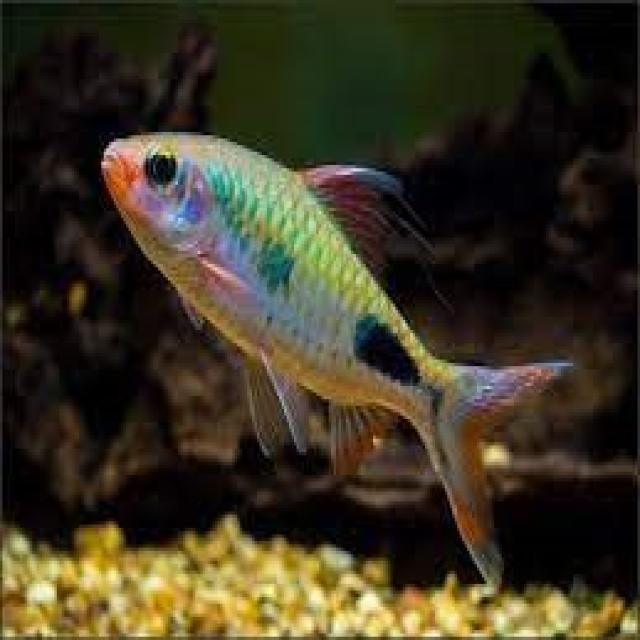Black-Spotted-Barb: (91, 84, 576, 601)
